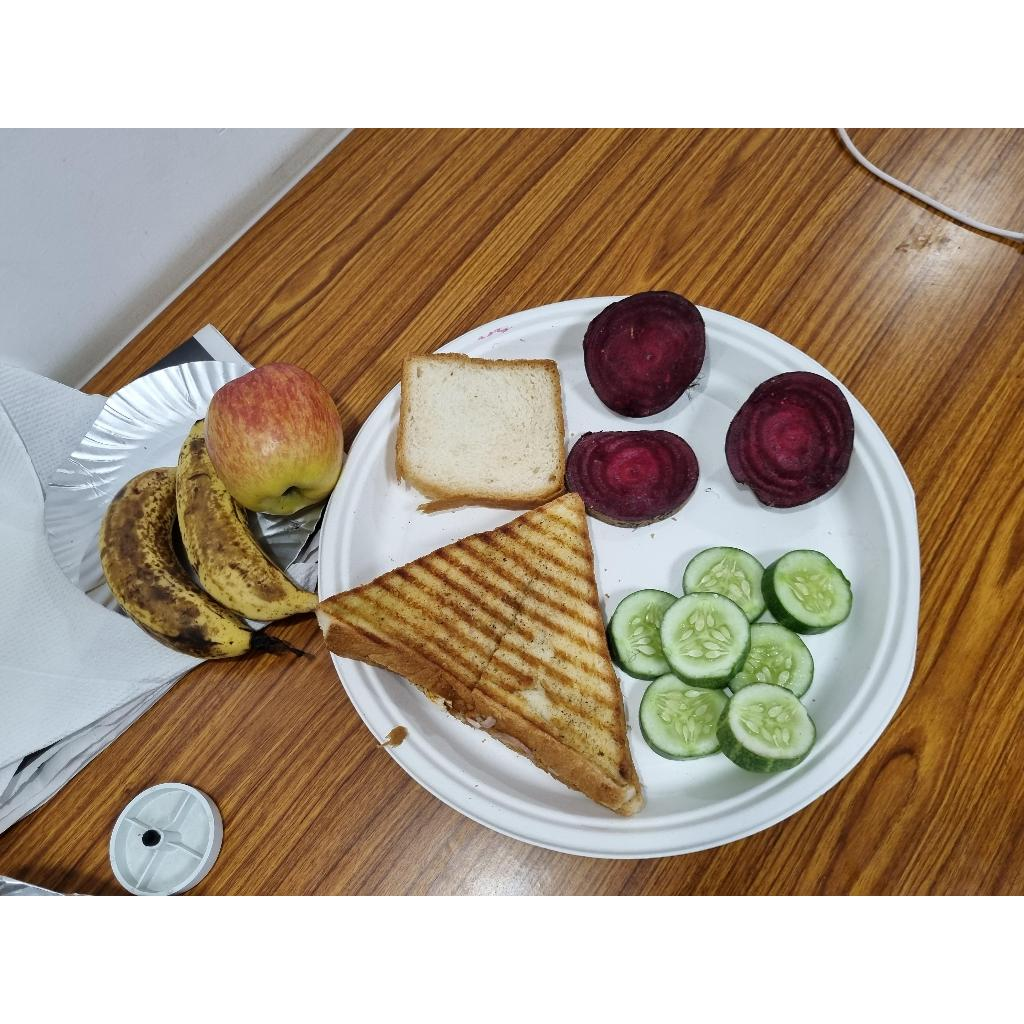apple: (202, 367, 349, 518)
banana: (102, 467, 255, 662), (175, 424, 317, 626)
cucumber: (724, 685, 818, 781), (661, 593, 753, 691), (762, 550, 857, 640), (642, 676, 737, 762), (721, 625, 819, 703), (604, 589, 681, 684), (684, 548, 774, 625)
